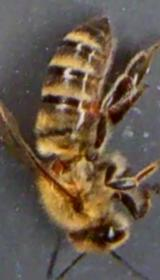varroa_mite: (46, 154, 68, 179), (88, 95, 102, 118)
